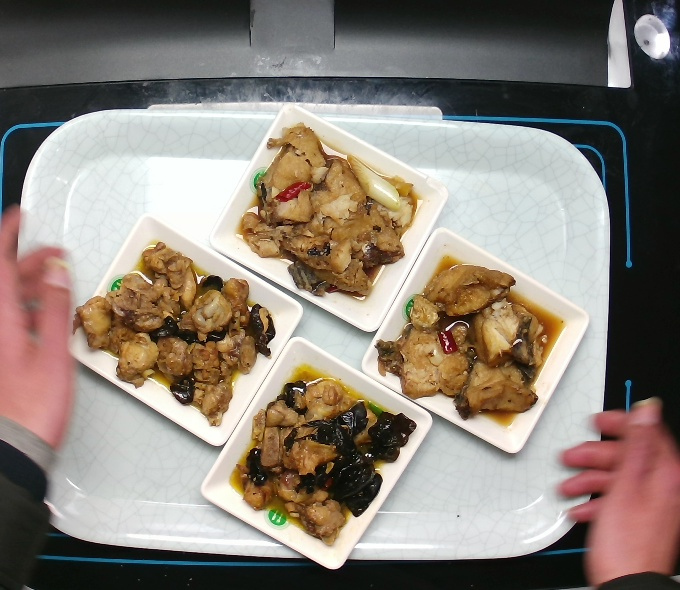wcq-MuErRouKuai: (76, 246, 275, 426), (236, 375, 416, 545)
wcq-YuKuai: (239, 119, 420, 300), (374, 260, 555, 423)
